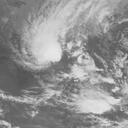cyclone: (16, 24, 69, 71)
